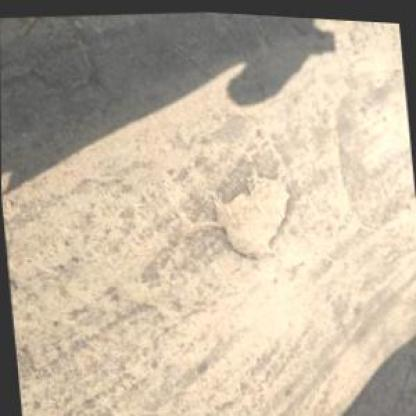pothole: (207, 162, 298, 265)
